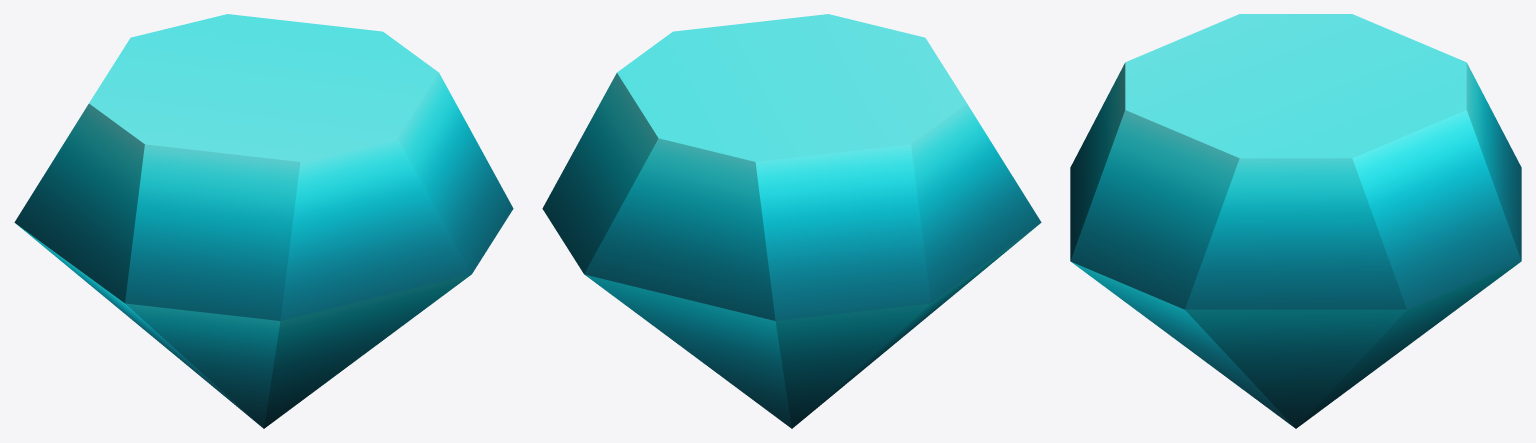
The model's file is Gem_Blue.fbx.
3 views of the same model, side by side, from view 1: azimuth 30°, elevation 25°; view 2: azimuth 150°, elevation 25°; view 3: azimuth 270°, elevation 25° (orthographic).
Visible parts, largest first — view 1: Gem_Blue; view 2: Gem_Blue; view 3: Gem_Blue.
Part boxes in pixels (box(x1,y1,x2,y2)): Gem_Blue: box(14, 14, 513, 428); Gem_Blue: box(542, 14, 1041, 428); Gem_Blue: box(1070, 14, 1521, 428).
Size of the model in its own units: 7.34 by 6.15 by 7.34.
